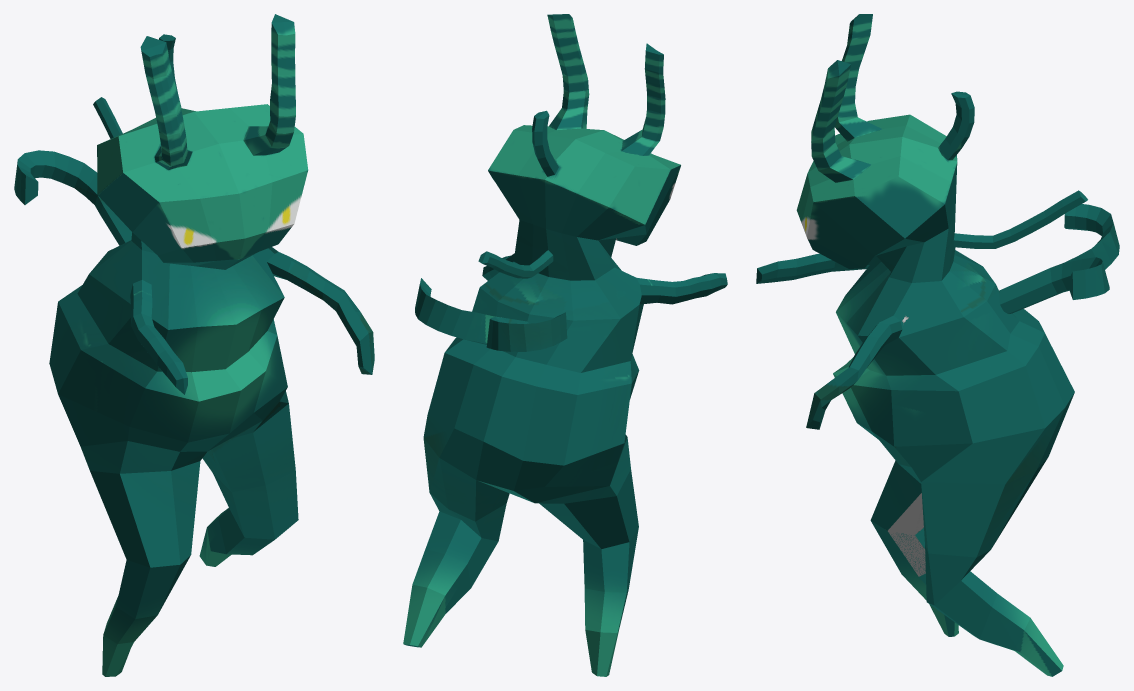
Rendered from monstruo1_caminar_25.obj.
The picture shows the model from 3 angles, left to right: view 1: azimuth 30°, elevation 25°; view 2: azimuth 150°, elevation 25°; view 3: azimuth 270°, elevation 25°; orthographic projection. The views are drawn at different scales.
Visible parts, largest first — view 1: Monstruo_basico; view 2: Monstruo_basico; view 3: Monstruo_basico.
Boxes of the visible parts, left/top/right/bottom form: Monstruo_basico: left=14, top=14, right=374, bottom=676; Monstruo_basico: left=403, top=14, right=727, bottom=676; Monstruo_basico: left=756, top=14, right=1119, bottom=676.
Bounding box in the file's own units: 0.3648 × 1.02 × 0.5429.
